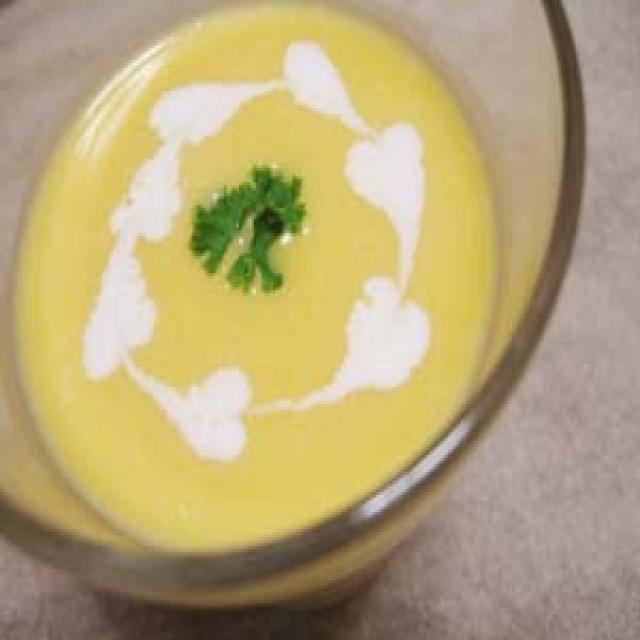汤锅炖物: (0, 0, 585, 617)
